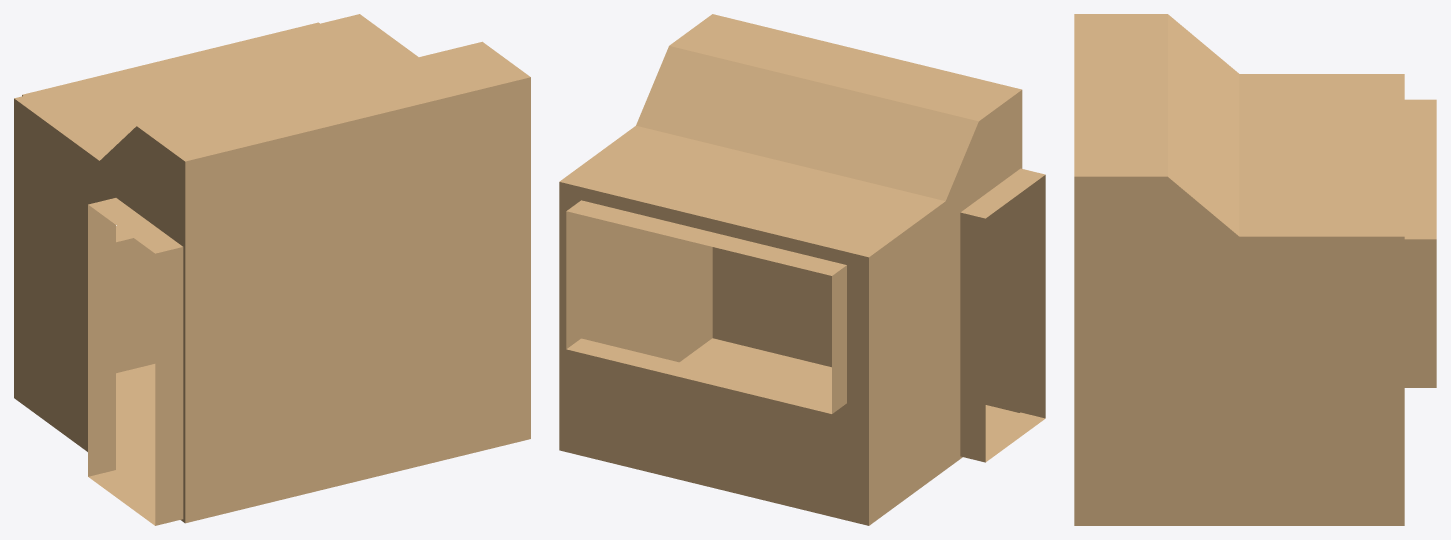
The model's file is RoomStatsFlorAndWall.fbx.
The picture shows the model from 3 angles, left to right: view 1: azimuth 30°, elevation 25°; view 2: azimuth 150°, elevation 25°; view 3: azimuth 270°, elevation 25°; orthographic projection. The views are drawn at different scales.
Parts seen in each view (by area): view 1: RoomBoundaries, RoomBoundaries.002, RoomBoundaries.001; view 2: RoomBoundaries, RoomBoundaries.002, RoomBoundaries.001; view 3: RoomBoundaries, RoomBoundaries.002.
Boxes of the visible parts, box(x1,y1,x2,y2) form: RoomBoundaries: box(14, 22, 530, 525); RoomBoundaries.002: box(14, 14, 530, 161); RoomBoundaries.001: box(116, 364, 155, 498); RoomBoundaries: box(559, 90, 1045, 525); RoomBoundaries.002: box(559, 14, 1021, 257); RoomBoundaries.001: box(679, 338, 1019, 437); RoomBoundaries: box(1074, 99, 1436, 525); RoomBoundaries.002: box(1074, 14, 1404, 236).
Bounding box in the file's own units: 2.84 × 2.47 × 2.63.
